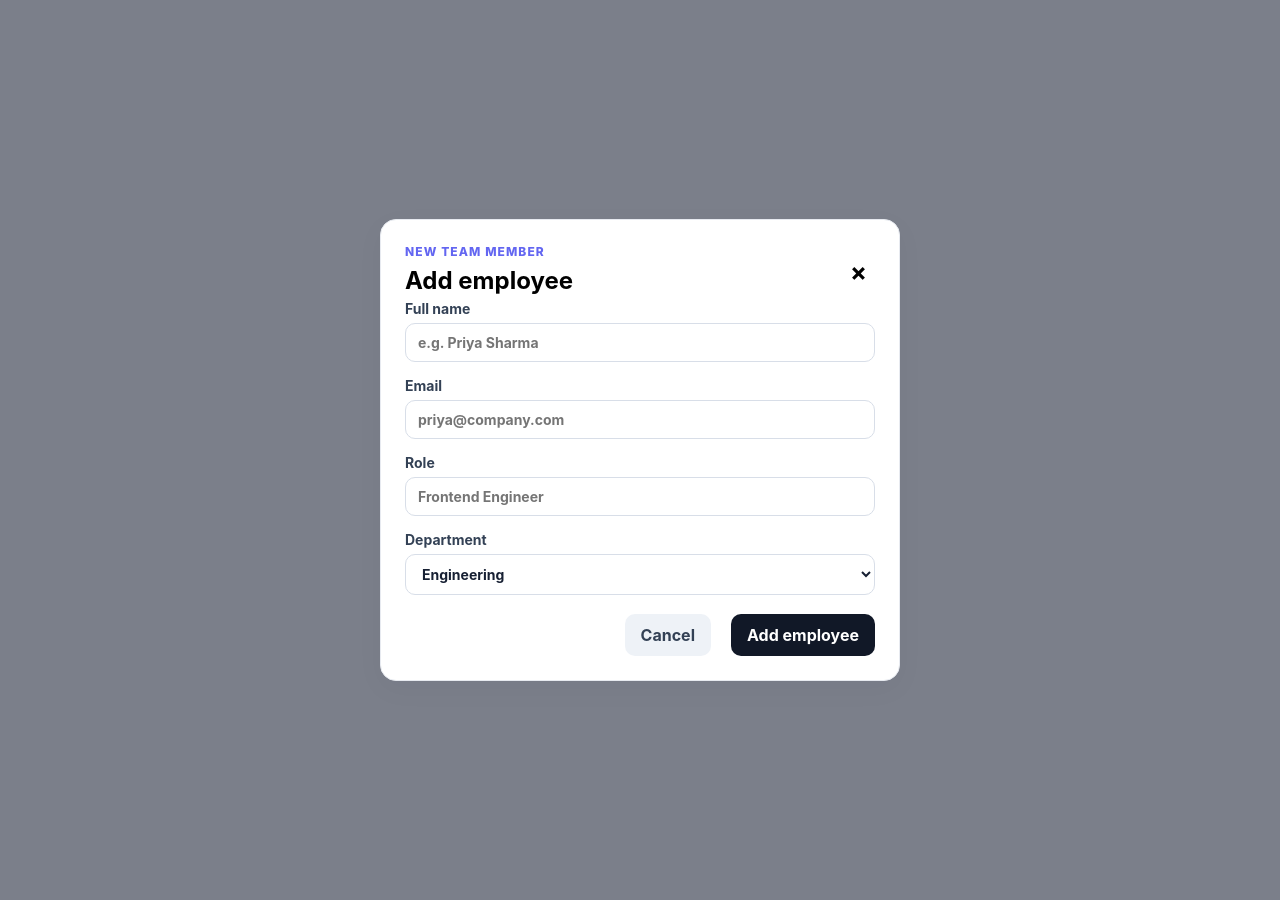
Test: keeps form values and rejects a case-insensitive duplicate email
Step 1. Type "Another Maya" into the field labelled "Full name" → point(640, 342), box [405,323,875,362]
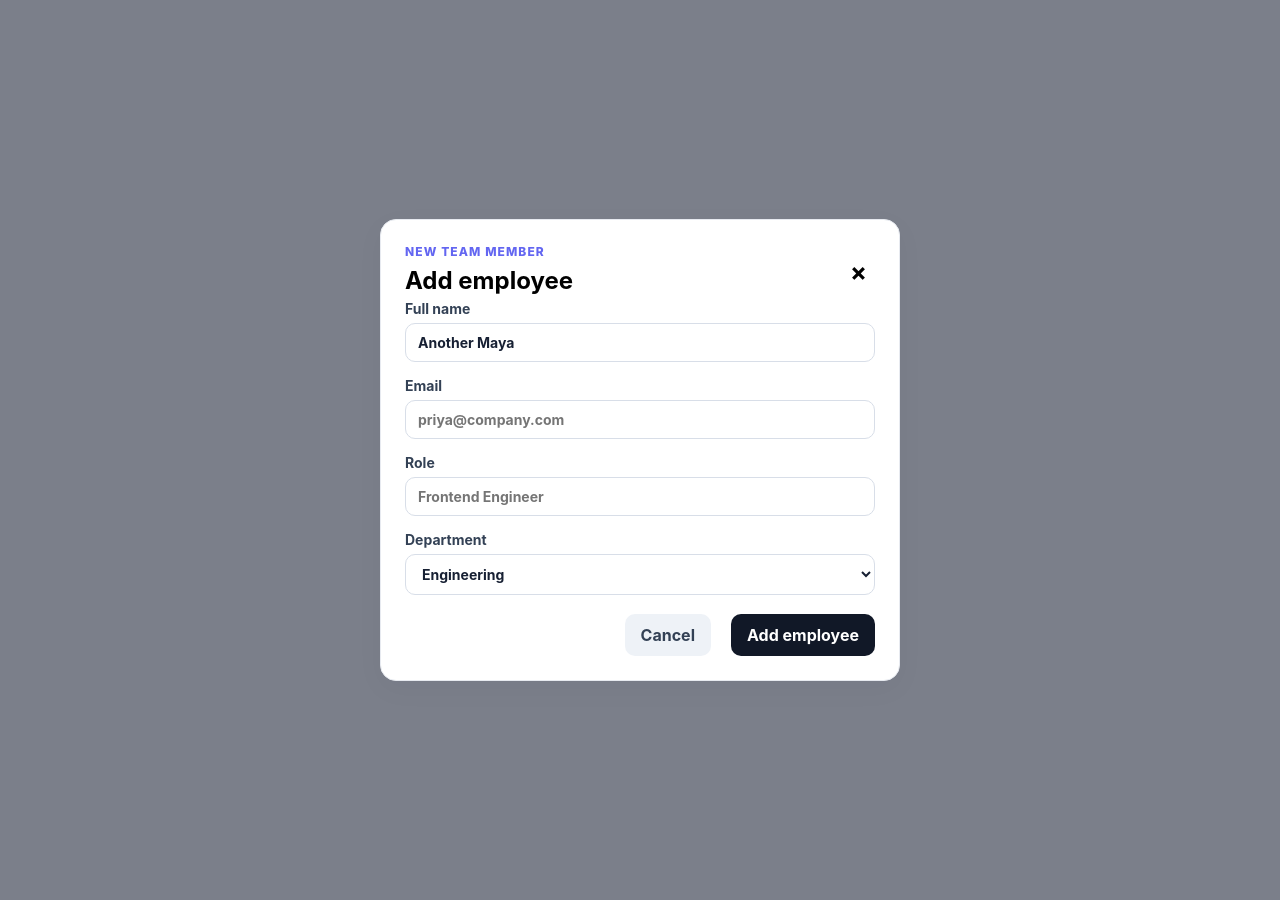
Step 2. Type " MAYA.PATEL@NORTHSTAR.DEV " into the field labelled "Email" → point(640, 420), box [405,400,875,439]
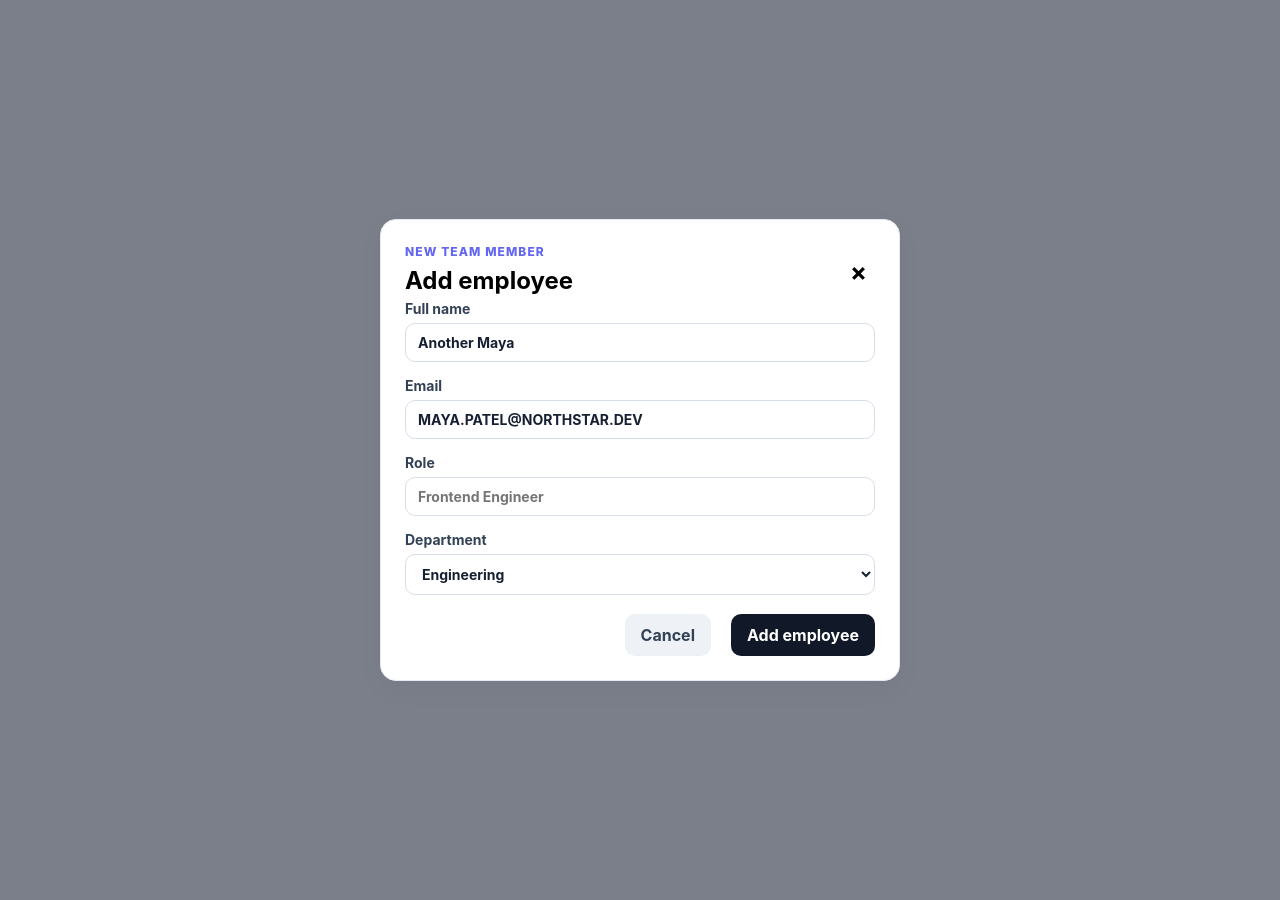
Step 3. Type "Engineer" into the field labelled "Role" → point(640, 496), box [405,477,875,516]
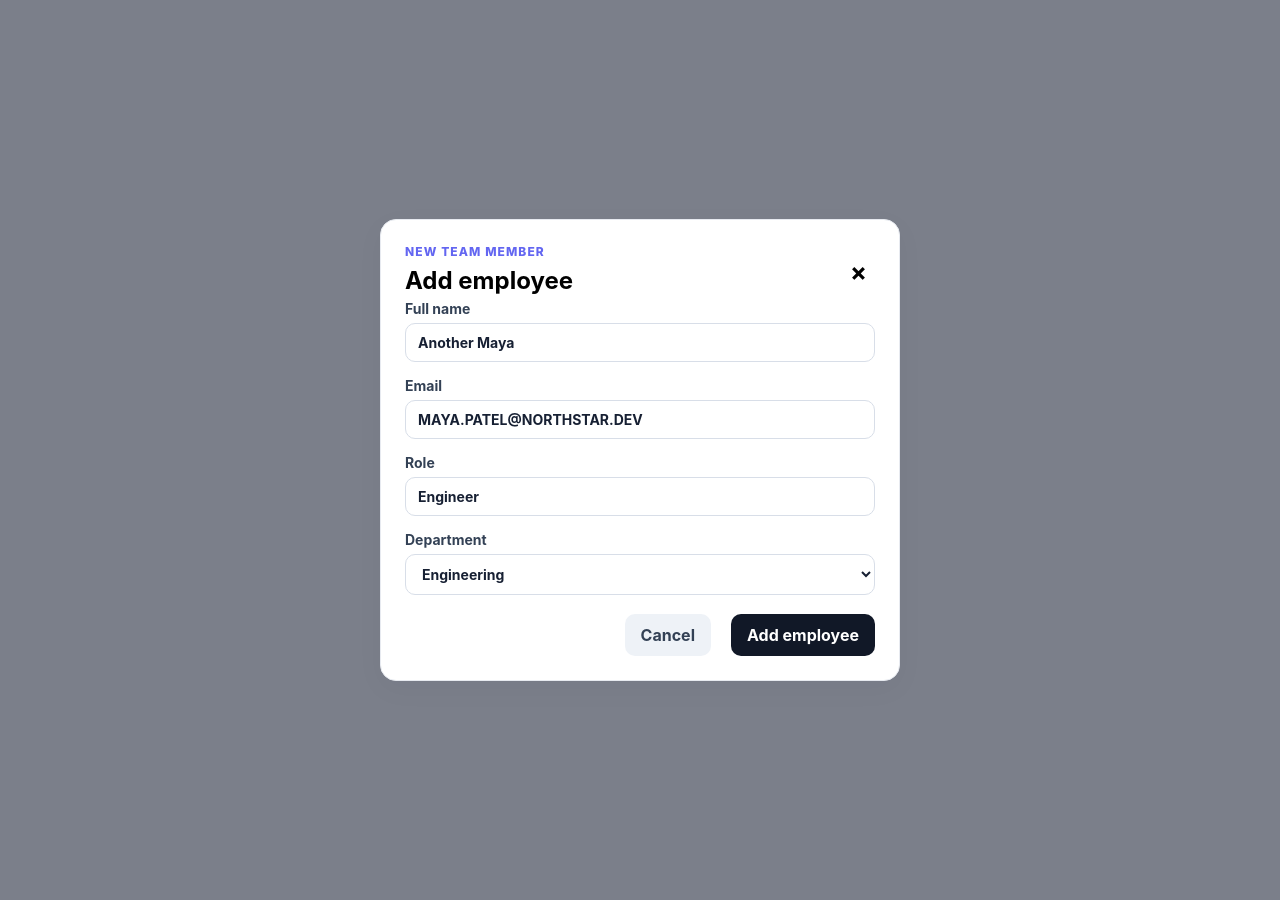
Step 4. Click the button "Add employee" → point(803, 635), box [731,614,875,656]
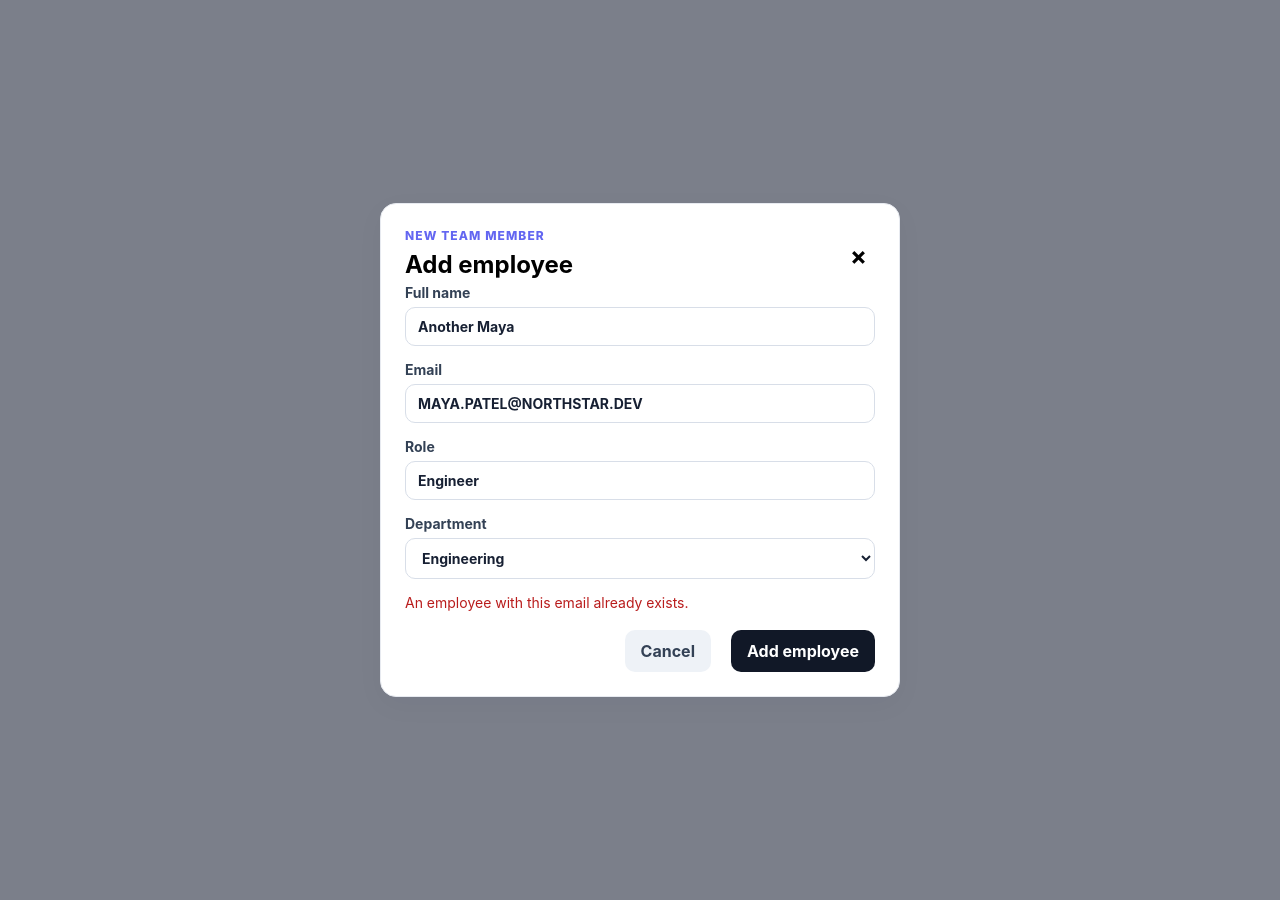
Now the text "An employee with this email already exists." is shown, box [405,594,688,611]
